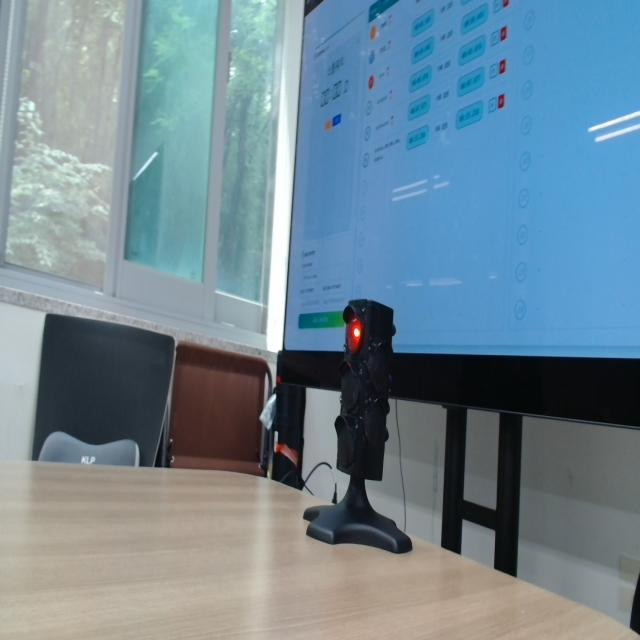red_light: (346, 318, 361, 353)
